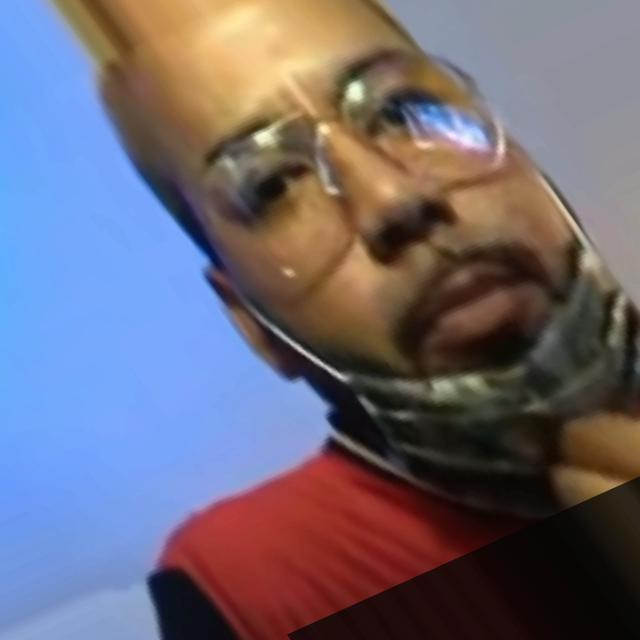hairnet: (201, 47, 634, 490)
